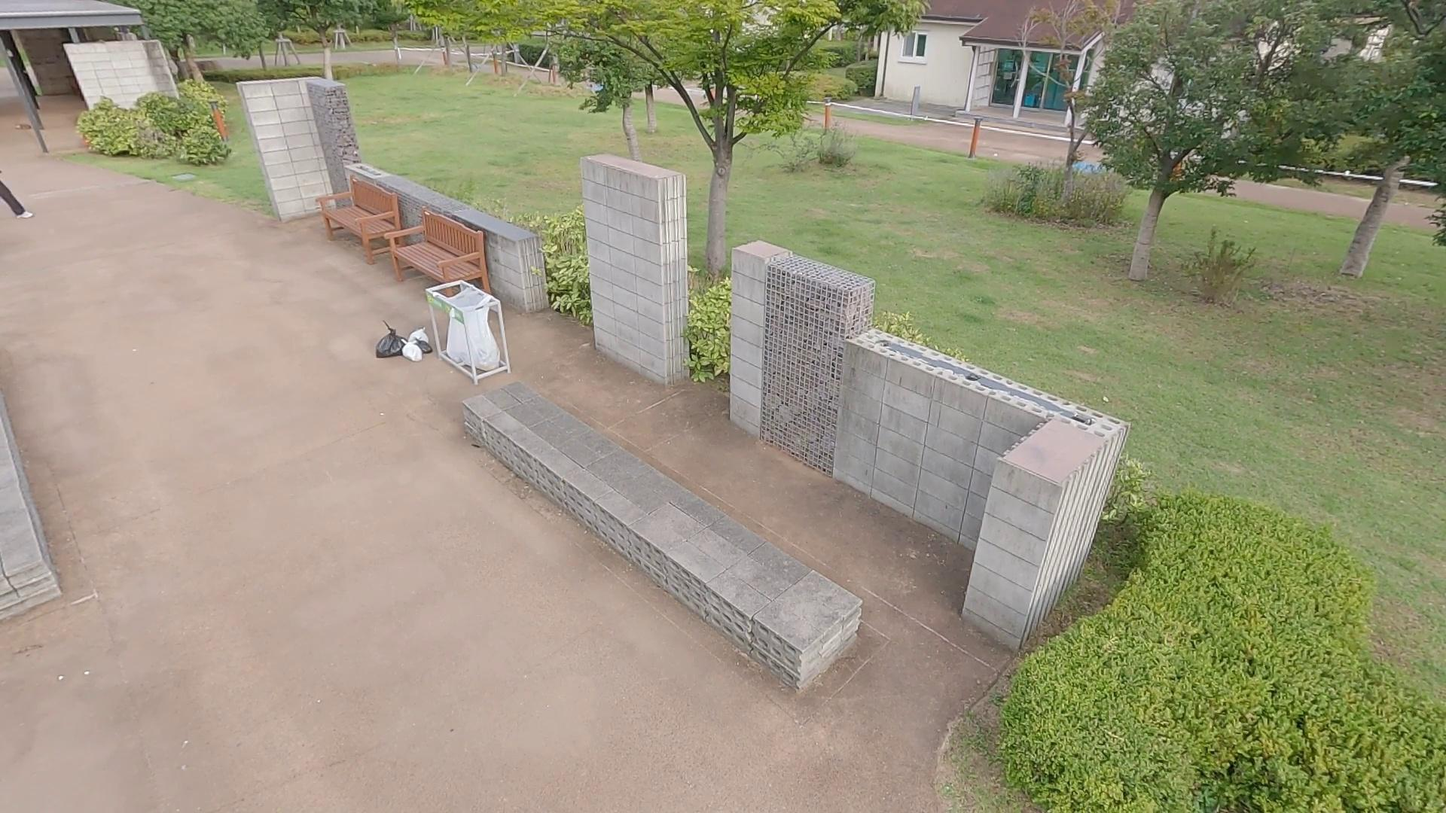trash: (377, 318, 408, 361), (403, 335, 436, 359), (399, 335, 423, 362), (409, 327, 428, 345)
